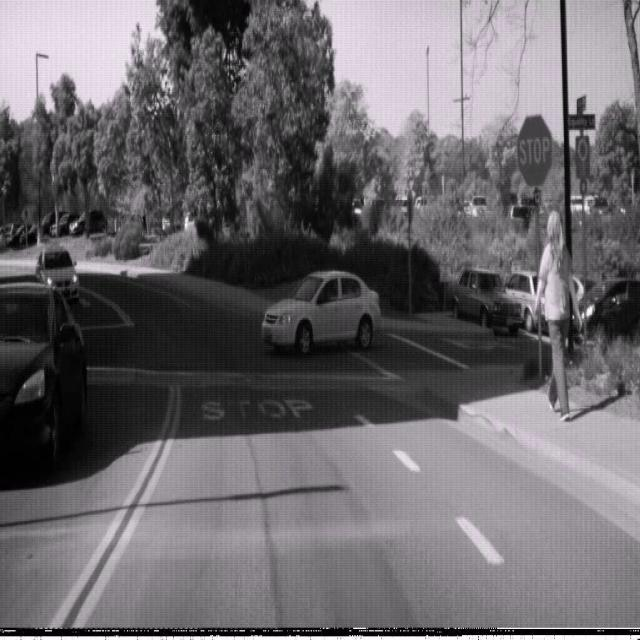stop_sign: (516, 113, 552, 189)
